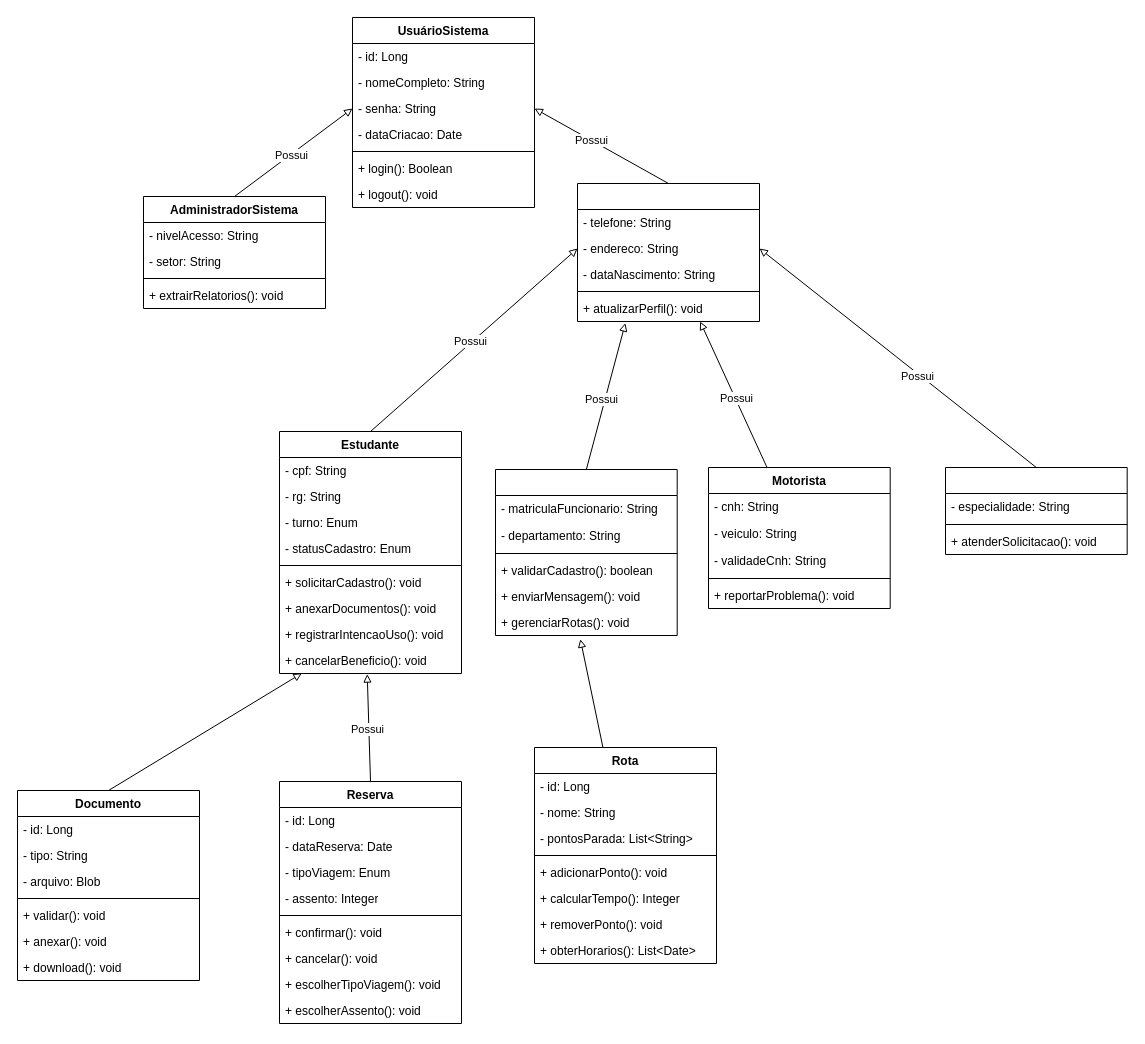
Some shapes in this 1145 by 1044 pixel diagram are drawn without their labels. Here are the shapes that lost their labels. From the top down, the box of each, then its label:
(576, 182, 760, 322): UsuárioComum
(944, 466, 1127, 554): Suporte
(494, 468, 677, 636): AgenteAdministrativo
